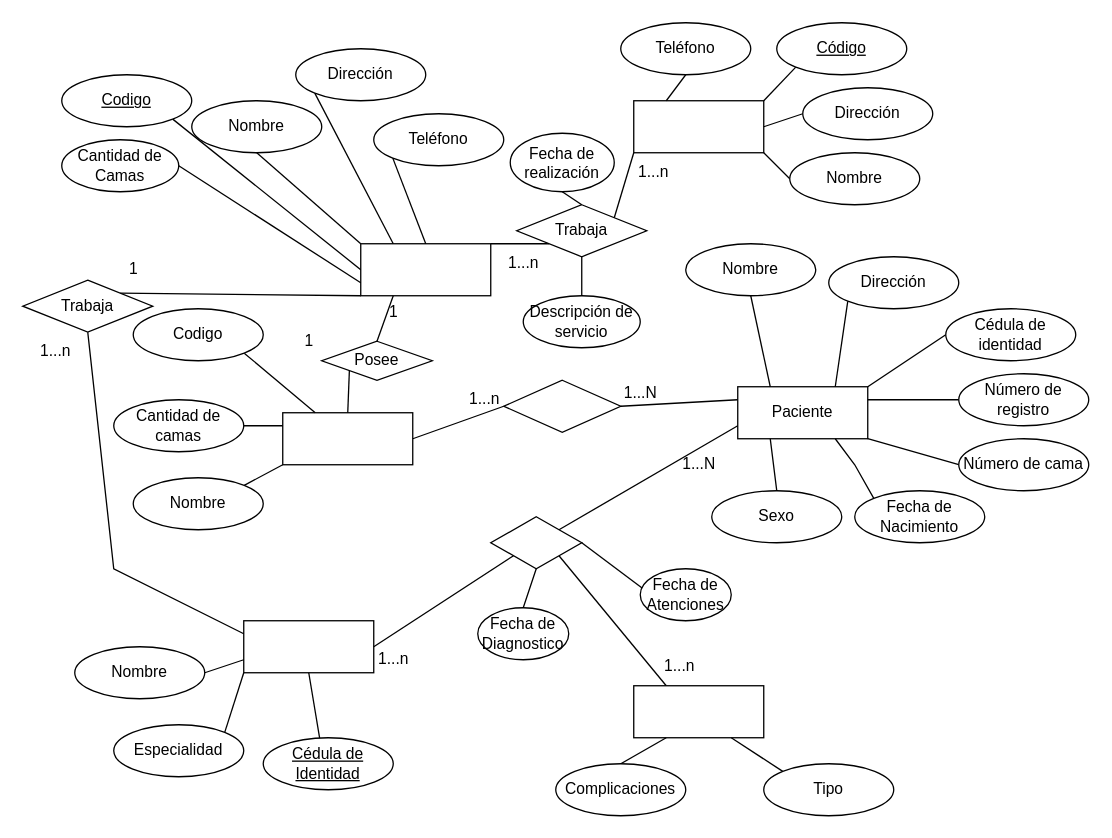
The diagram is 1112 pixels wide and 838 high, and some of its shapes have lost their labels. The centre of each missing label's shape, as x and y in pixels:
Diagnostico: [698,711]
Hospital: [425,269]
Internado: [561,405]
Laboratorio: [698,126]
Medico: [308,646]
Sala: [347,438]
Tiene: [535,542]
